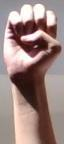E: (0, 0, 64, 79)
